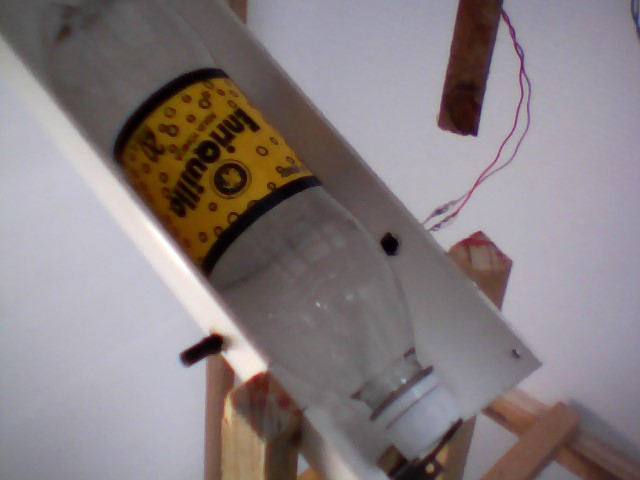plastico: (30, 1, 467, 464)
